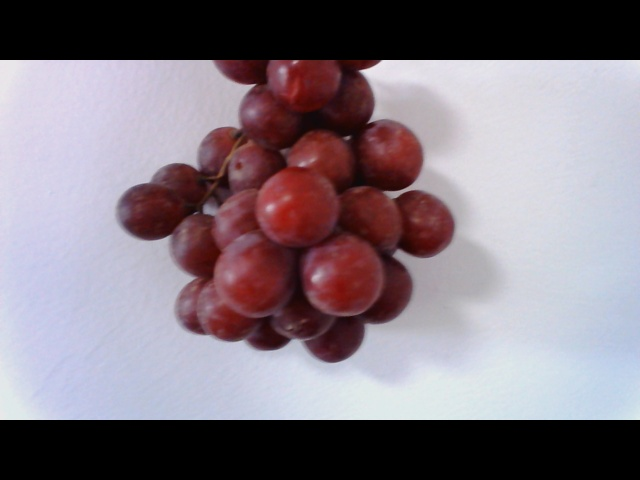grape: (110, 65, 457, 366)
